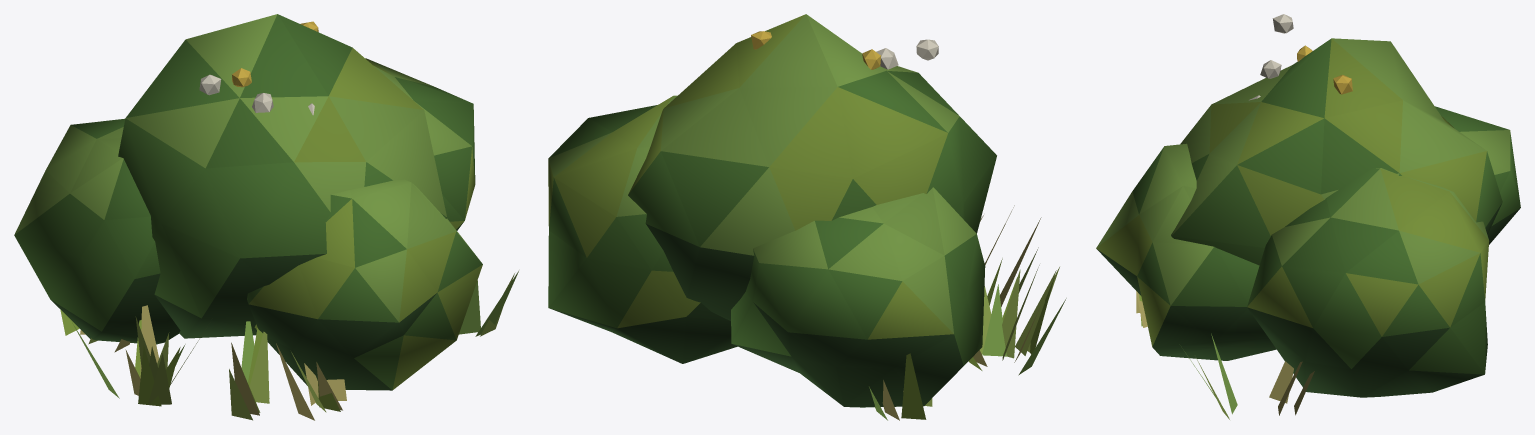
Rendered from bush.glb.
3 views of the same model, side by side, from view 1: azimuth 30°, elevation 25°; view 2: azimuth 150°, elevation 25°; view 3: azimuth 270°, elevation 25° (orthographic). The views are drawn at different scales.
Parts seen in each view (by area): view 1: bush.001; view 2: bush.001; view 3: bush.001.
Part boxes in pixels (x1,y1,x2,y2): bush.001: [14, 14, 518, 420]; bush.001: [548, 14, 1066, 420]; bush.001: [1096, 14, 1520, 419].
Size of the model in its own units: 1.49 by 1.09 by 1.3.
